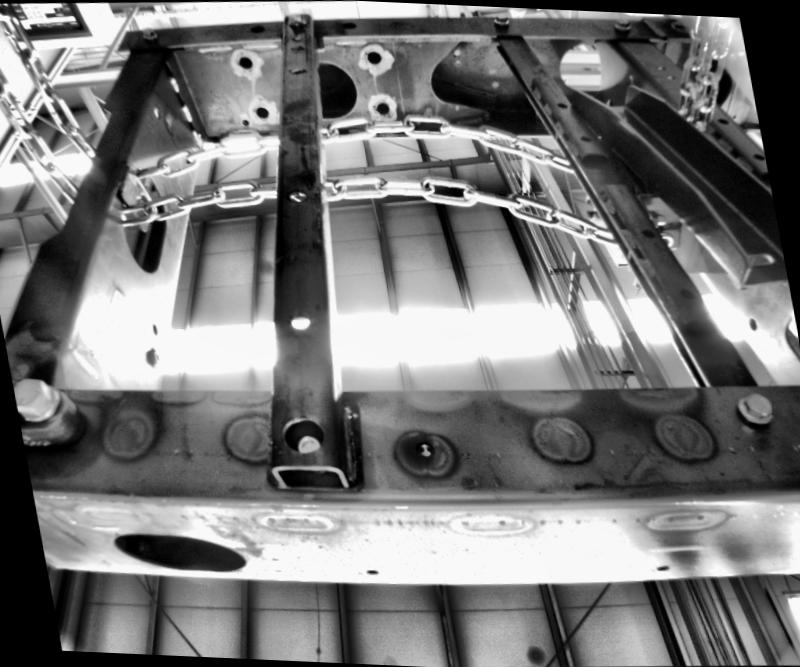bolt: (11, 367, 62, 430), (732, 389, 781, 424), (138, 343, 162, 369), (610, 13, 631, 32), (486, 11, 513, 25), (136, 24, 157, 41), (283, 11, 304, 25)
bracket: (112, 152, 164, 238)
hole: (96, 520, 262, 580), (547, 33, 608, 93), (282, 411, 325, 454), (283, 308, 312, 333), (408, 436, 435, 459), (284, 186, 308, 203), (233, 53, 253, 70), (370, 98, 390, 115), (638, 223, 656, 240), (252, 103, 270, 120), (677, 284, 694, 300), (286, 61, 306, 74), (744, 315, 760, 331), (246, 21, 268, 32), (364, 49, 381, 63), (654, 559, 670, 573), (747, 148, 764, 161), (363, 563, 380, 575), (554, 98, 568, 110), (338, 19, 356, 27), (487, 77, 499, 88), (149, 321, 159, 334), (485, 63, 495, 74), (579, 132, 590, 141), (290, 32, 301, 41), (715, 116, 726, 124), (652, 61, 664, 68), (240, 117, 248, 124), (664, 74, 674, 79)
welding: (165, 73, 181, 93), (178, 102, 190, 121), (190, 127, 202, 146)
